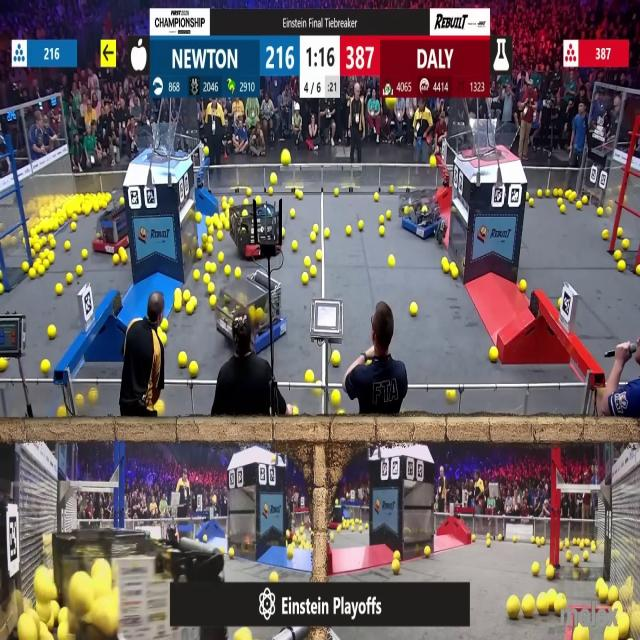ball_airborne: (282, 149, 290, 164), (204, 146, 210, 154)
ball_ground: (508, 596, 522, 619), (523, 597, 535, 619), (554, 596, 566, 615), (536, 598, 548, 616), (596, 582, 605, 602), (574, 628, 588, 640), (608, 588, 618, 604), (333, 390, 342, 407), (59, 626, 69, 640), (490, 348, 499, 362), (188, 361, 197, 375), (178, 352, 187, 366), (157, 403, 166, 417), (90, 389, 99, 403), (306, 370, 315, 383), (392, 560, 400, 574), (545, 566, 553, 580), (119, 249, 127, 263), (334, 352, 342, 366), (59, 408, 68, 420), (48, 325, 56, 338), (41, 359, 49, 372), (532, 562, 539, 576), (162, 319, 170, 331), (448, 390, 456, 402), (76, 394, 84, 406), (0, 358, 7, 371), (271, 571, 279, 582), (174, 301, 182, 312), (411, 304, 418, 316), (186, 303, 193, 315), (67, 273, 74, 285), (388, 254, 395, 266), (303, 274, 310, 286), (310, 267, 317, 279), (622, 240, 630, 250), (619, 262, 626, 273), (208, 283, 215, 294), (161, 335, 168, 346), (520, 280, 526, 292), (210, 294, 216, 306), (76, 266, 82, 278), (452, 268, 458, 280), (287, 548, 293, 560), (204, 264, 212, 273), (57, 284, 64, 294), (223, 267, 230, 277), (602, 231, 609, 241), (444, 264, 451, 274), (316, 250, 323, 260), (616, 250, 623, 260), (29, 270, 36, 280), (291, 408, 298, 418), (443, 256, 450, 266), (569, 191, 576, 201), (291, 241, 297, 252), (424, 545, 430, 556), (48, 252, 54, 263), (271, 173, 277, 184), (34, 258, 41, 267), (236, 269, 242, 279), (193, 271, 199, 281), (380, 225, 386, 235), (218, 252, 224, 262), (65, 241, 71, 251), (205, 274, 211, 284), (113, 254, 119, 264), (211, 264, 217, 274), (195, 249, 201, 259), (305, 256, 311, 266), (183, 290, 189, 300), (23, 264, 29, 274), (194, 212, 200, 222), (39, 266, 45, 276), (572, 556, 578, 566), (41, 238, 47, 248), (429, 158, 435, 168), (596, 208, 603, 216), (175, 288, 182, 296), (228, 549, 233, 560), (394, 552, 400, 561), (380, 215, 386, 224), (49, 240, 55, 249), (618, 229, 624, 238), (313, 223, 319, 232), (386, 211, 392, 220), (207, 244, 213, 253), (566, 554, 572, 563), (82, 248, 87, 258), (324, 229, 329, 239), (347, 224, 352, 234), (358, 220, 363, 230), (585, 552, 590, 562), (536, 189, 542, 197), (560, 206, 566, 214), (575, 202, 581, 210), (372, 195, 378, 203), (296, 190, 302, 198), (208, 225, 214, 233), (43, 258, 49, 266), (32, 242, 38, 250), (557, 199, 563, 207), (217, 222, 223, 230), (290, 209, 295, 218), (311, 234, 316, 243), (214, 214, 219, 223), (335, 188, 341, 195), (269, 187, 275, 194), (554, 188, 560, 195), (388, 185, 394, 192), (244, 200, 250, 207), (246, 188, 252, 195), (524, 191, 530, 198), (219, 546, 225, 553), (0, 284, 4, 294), (636, 266, 640, 276), (529, 200, 534, 208), (71, 222, 76, 230), (544, 188, 549, 196), (487, 539, 492, 547), (207, 216, 212, 224), (208, 236, 213, 244), (0, 271, 4, 281), (218, 232, 222, 241), (339, 411, 345, 417), (32, 248, 36, 257), (584, 198, 589, 205), (203, 235, 208, 242), (222, 203, 227, 210), (471, 534, 475, 542), (281, 230, 285, 238), (224, 222, 228, 230), (228, 200, 232, 208), (560, 541, 564, 549), (204, 534, 208, 542), (498, 534, 502, 541), (531, 536, 535, 543), (514, 536, 518, 542), (474, 538, 478, 544), (545, 559, 549, 565)
goal: (465, 122, 521, 160), (130, 130, 188, 160)
robot_blue: (213, 276, 287, 357), (401, 188, 444, 240)
robot_red: (228, 197, 282, 259), (94, 204, 130, 256)
